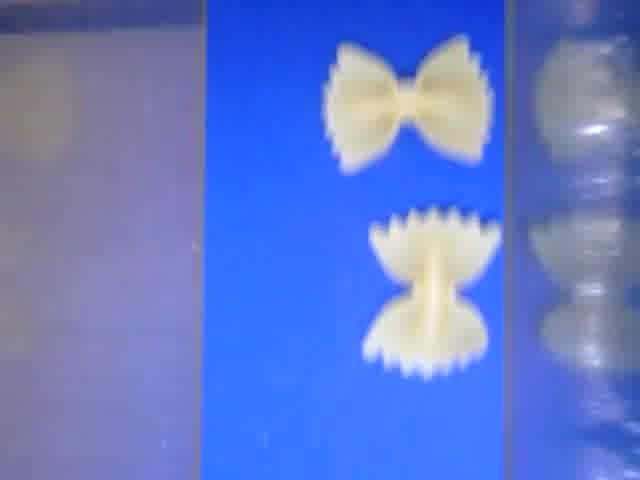farfalle: (319, 34, 493, 173), (361, 206, 501, 378)
